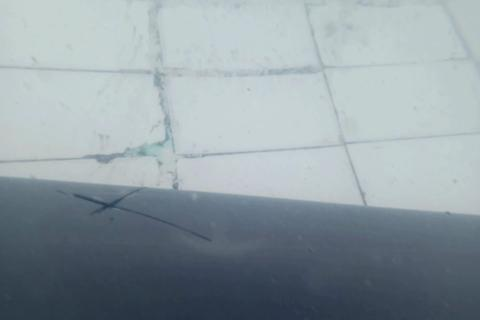keretakan: (54, 180, 215, 244)
